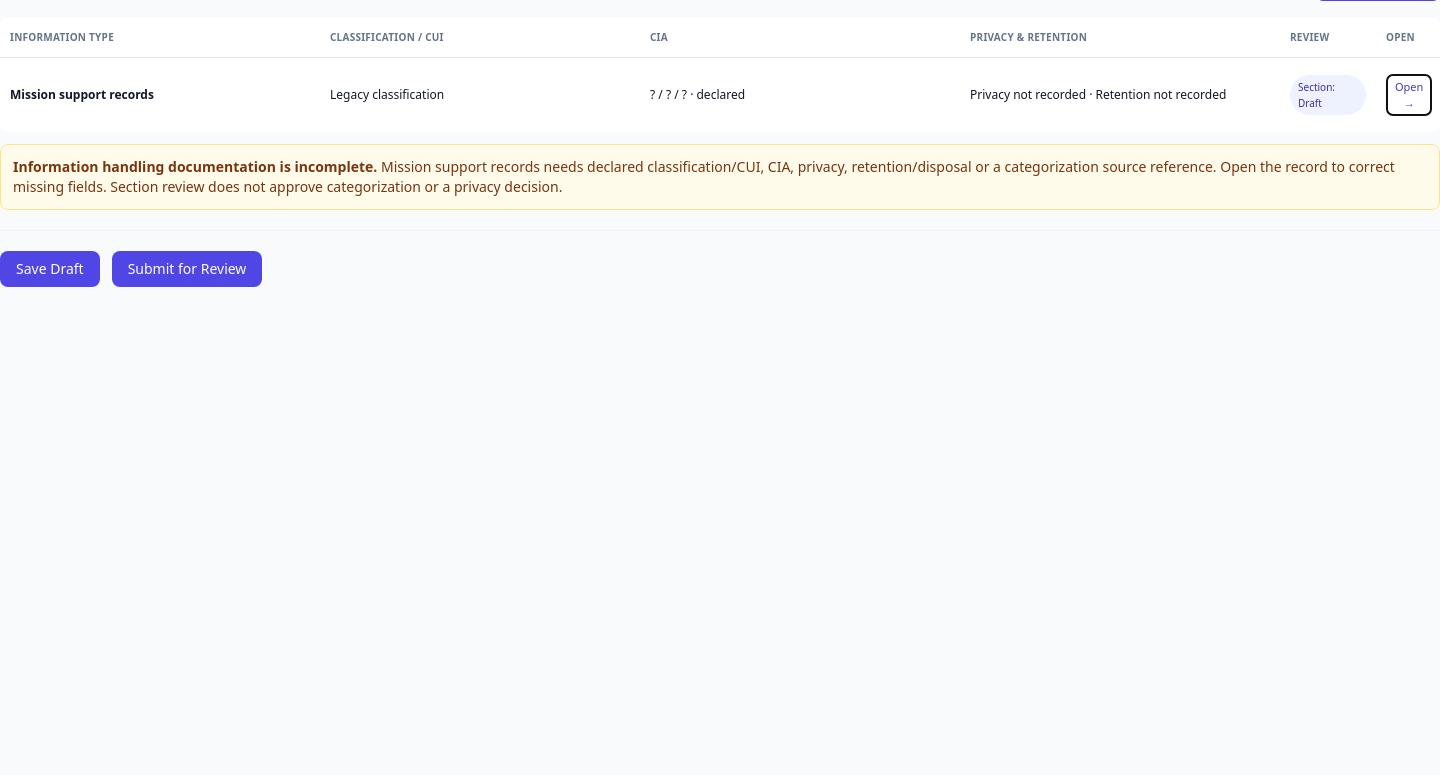
Data information types editor › never presents unknown row review metadata as independent data governance
Click the button with aria-label "Open data type Mission support records".
click(1409, 95)  # box [1386,74,1432,116]
(page scrolled)
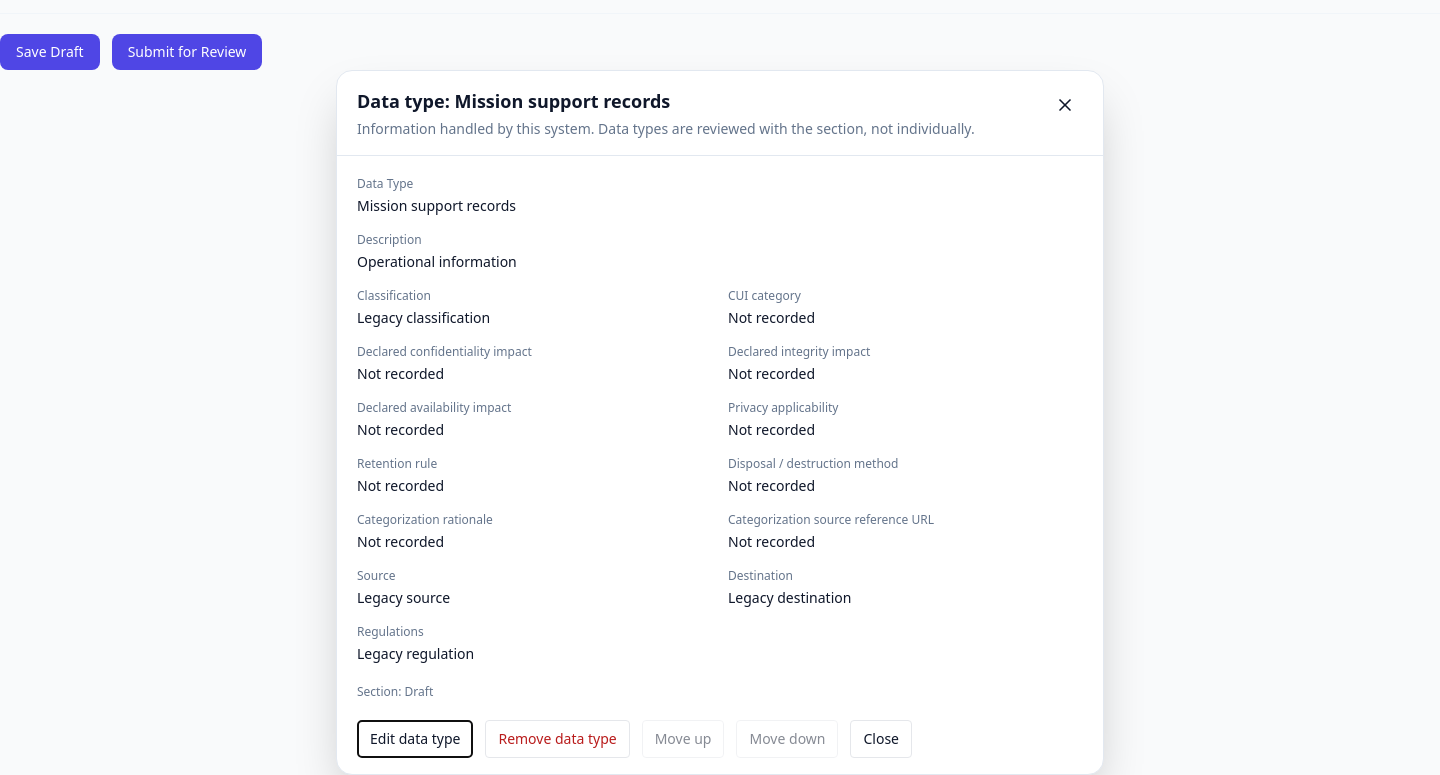
Now the text "Section: Draft" is shown, box [357,683,433,700]
Click the button "Remove data type".
click(558, 739)  # box [485,720,630,758]
(page scrolled)
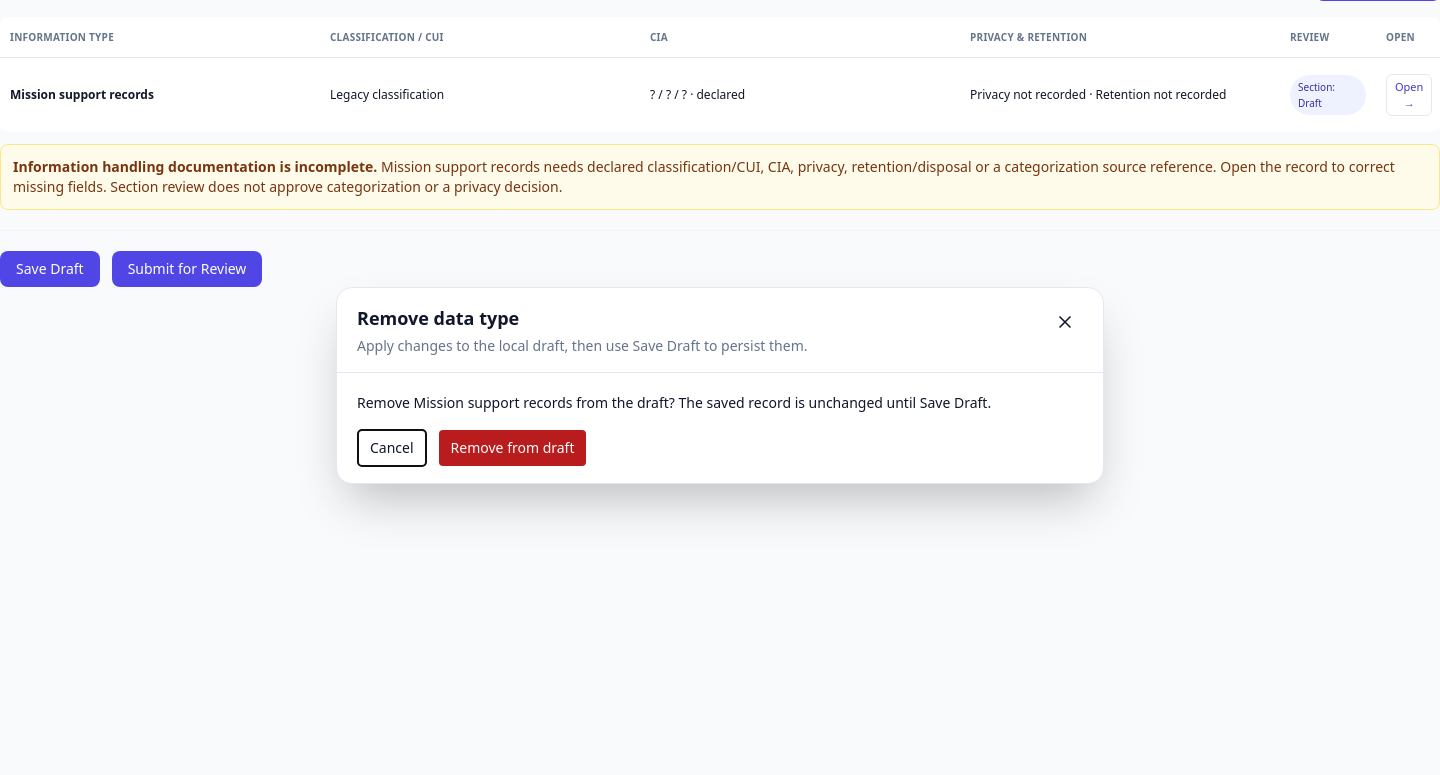
Now the button "Remove from draft" is enabled, box [439,430,586,466]
